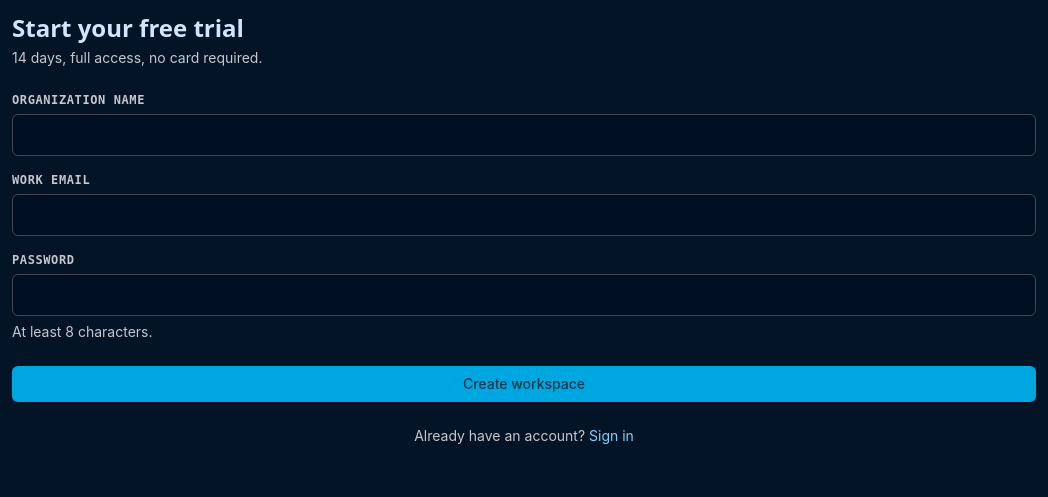
Scenario: SignUpPage › still shows a normal error when account creation itself fails (email already in use)
Step 1. Type "Acme" into the field labelled "Organization name" → (524, 135), box [12,114,1036,156]
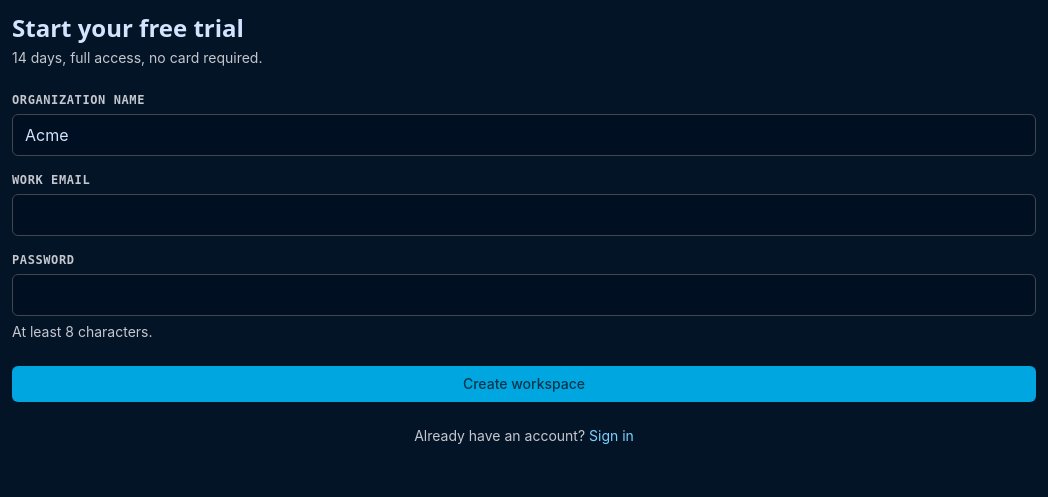
Step 2. Type "a@b.com" into the field labelled "Work email" → (524, 215), box [12,194,1036,236]
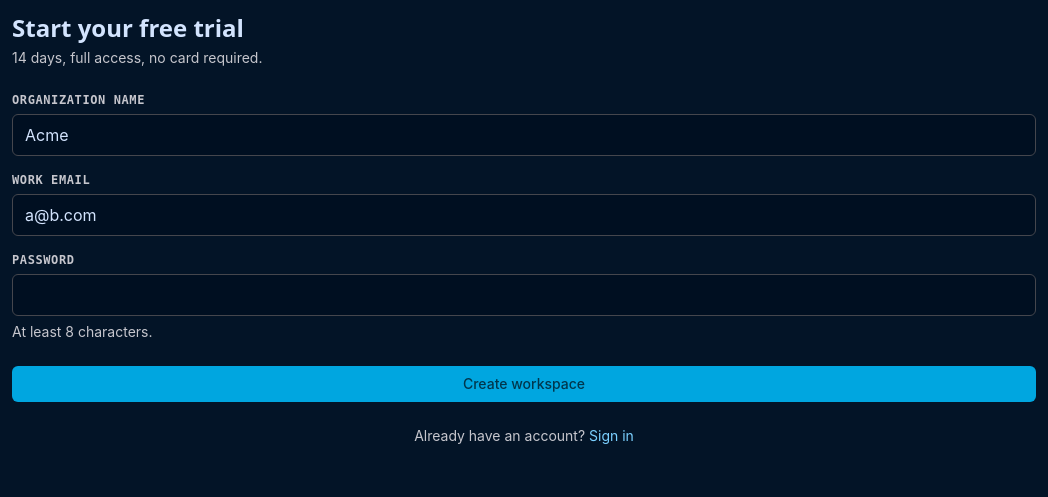
Step 3. Type "longenoughpw" into the password field labelled "Password" → (524, 295), box [12,274,1036,316]
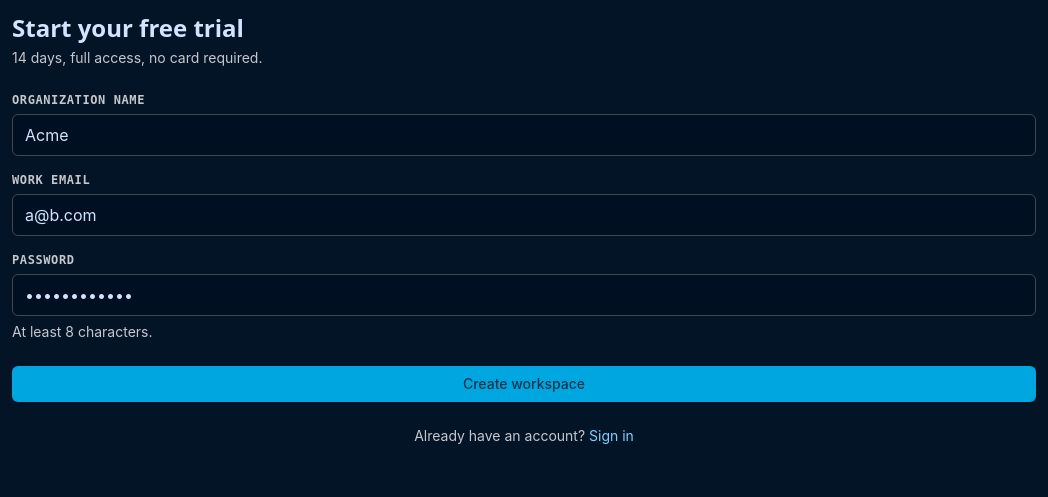
Step 4. Click the button "Create workspace" → (524, 384), box [12,366,1036,402]
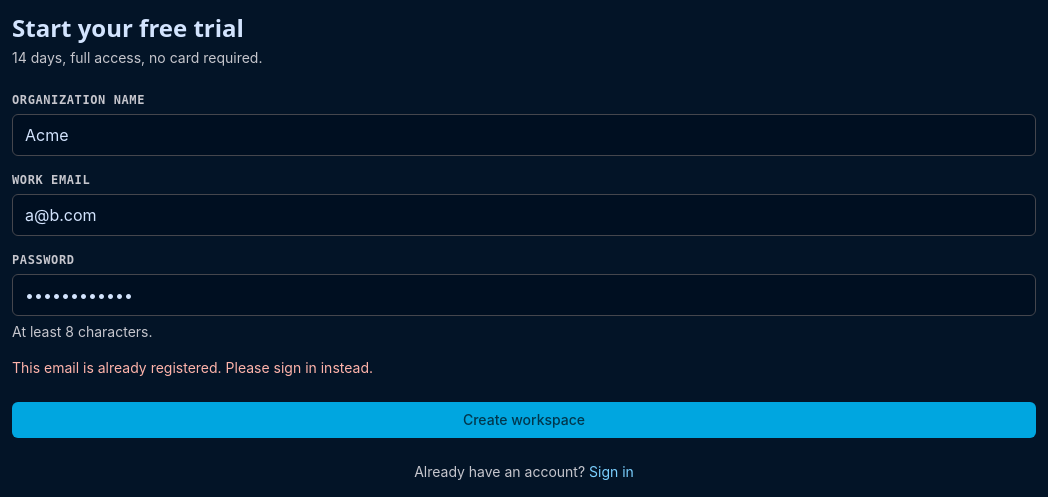
Now the message shows "already registered", box [12,359,373,376]
